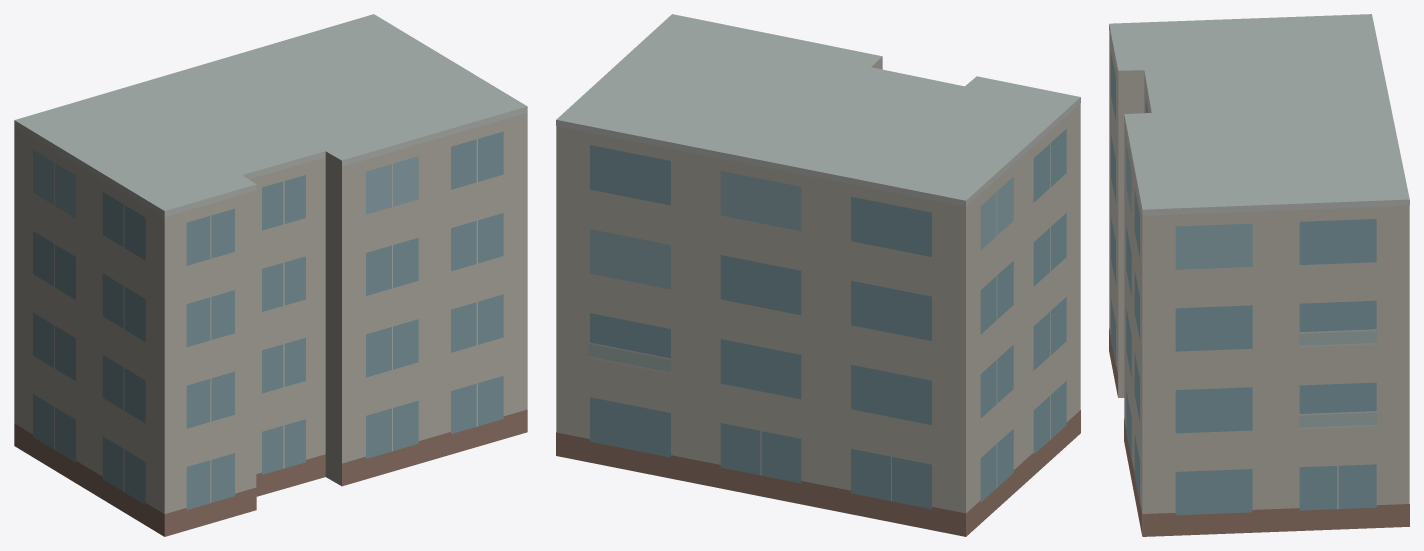
Rendered from survey-upis-32756426.glb.
3 views of the same model, side by side, from view 1: azimuth 30°, elevation 25°; view 2: azimuth 150°, elevation 25°; view 3: azimuth 270°, elevation 25° (orthographic). The views are drawn at different scales.
Visible parts, largest first — view 1: survey-upis-32756426.tmp; view 2: survey-upis-32756426.tmp; view 3: survey-upis-32756426.tmp.
Part boxes in pixels (left/top/right/bottom): survey-upis-32756426.tmp: left=14, top=14, right=527, bottom=536; survey-upis-32756426.tmp: left=556, top=14, right=1080, bottom=536; survey-upis-32756426.tmp: left=1109, top=14, right=1409, bottom=536.
Size of the model in its own units: 16.55 by 12.9 by 10.75.
